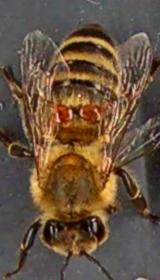varroa_mite: (74, 102, 105, 125), (49, 102, 76, 125)
